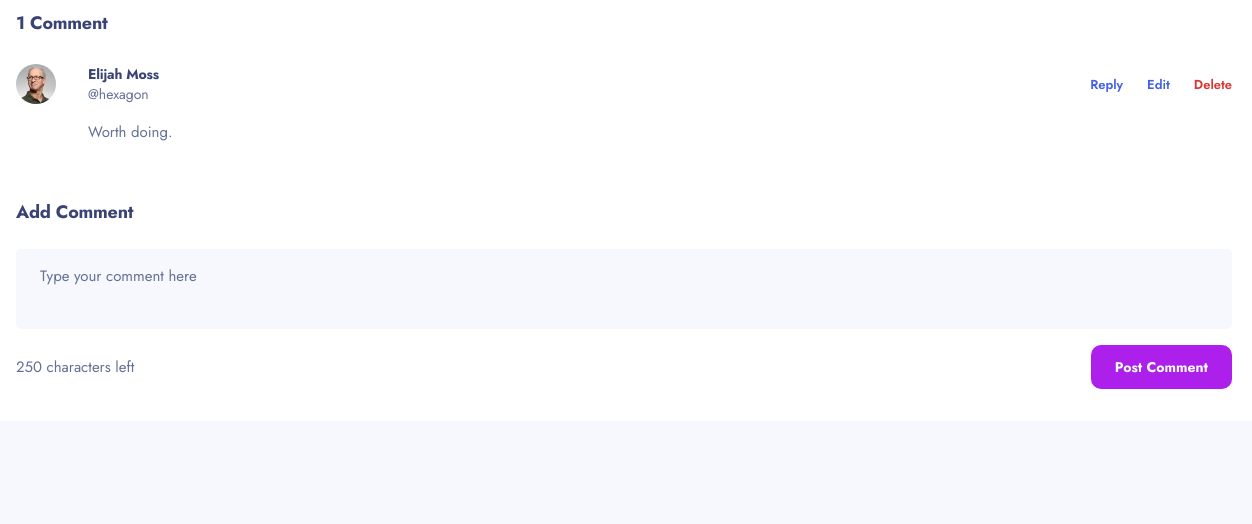
Test: editing and deleting › seeds the editor with the comment and saves what the reader leaves
Click the button "Edit": click(1158, 84) [1147,74,1170,94]
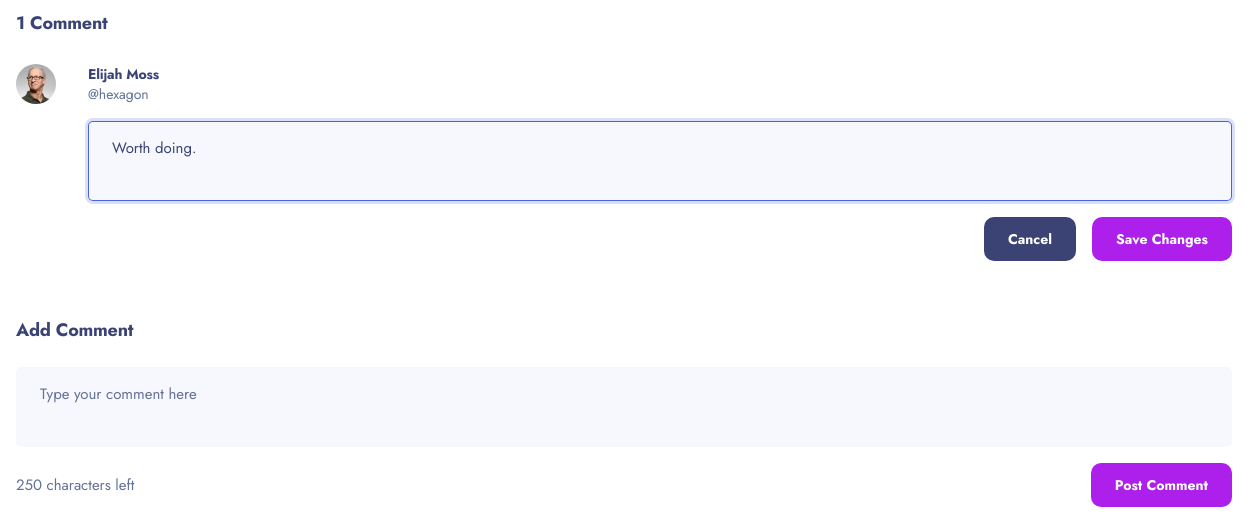
Result: the text box named "edit your comment" holds "Worth doing."
Replace the text in the text box named "edit your comment" with "Worth doing soon.": (660, 161) [88,121,1232,201]
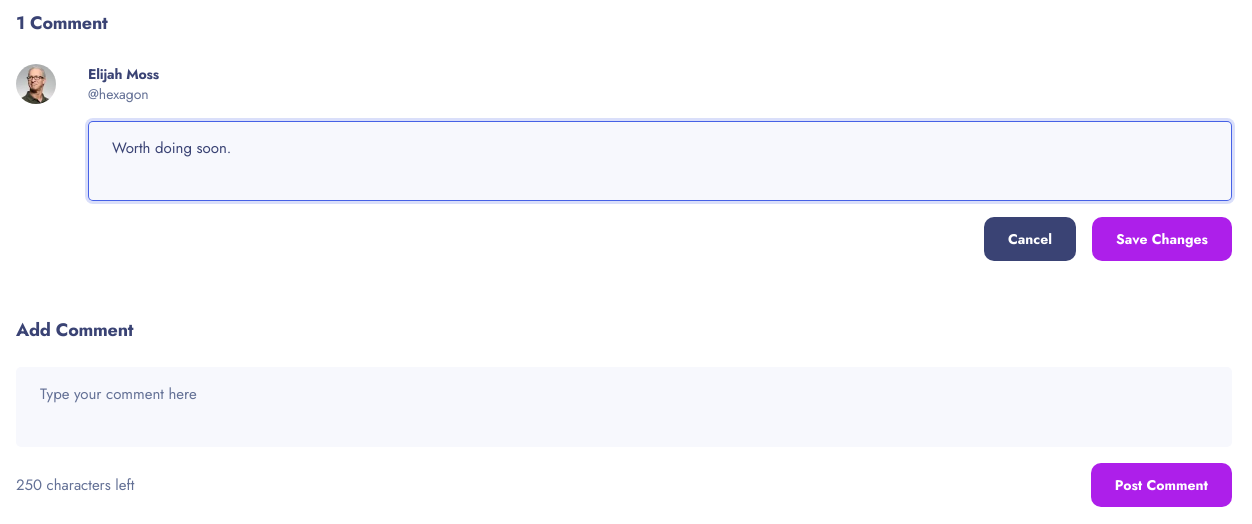
Click the button "Save Changes": click(1162, 239) [1092,217,1232,261]
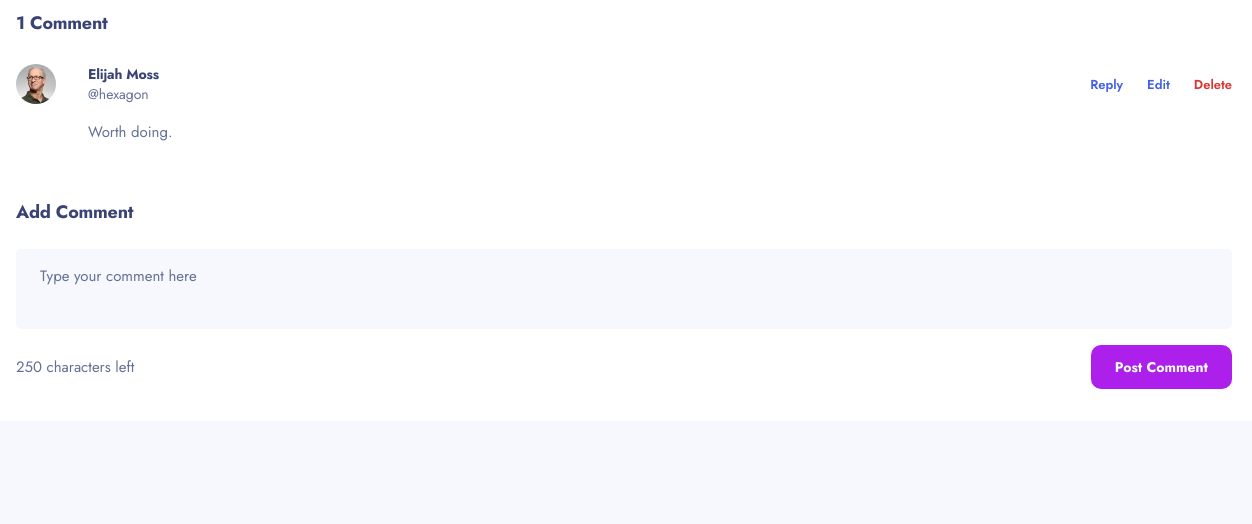
Result: the text "Worth doing soon." is shown at [88,121,172,143]
